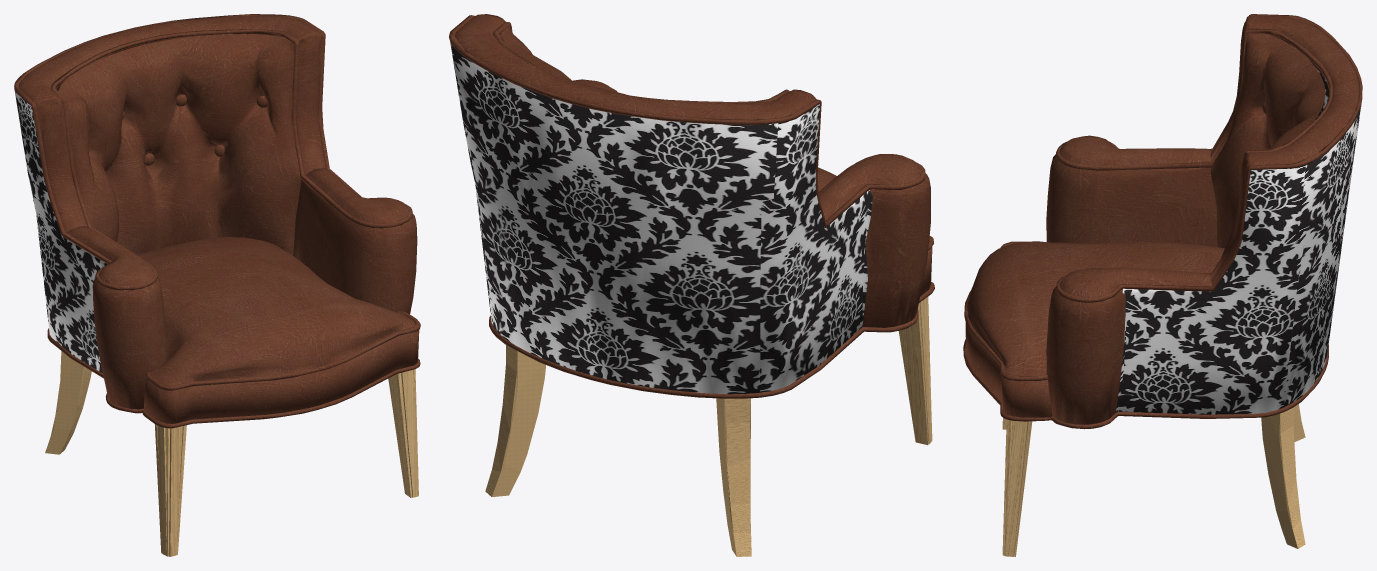
Rendered from armchair.glb.
The picture shows the model from 3 angles, left to right: view 1: azimuth 30°, elevation 25°; view 2: azimuth 150°, elevation 25°; view 3: azimuth 270°, elevation 25°; orthographic projection. The views are drawn at different scales.
Visible parts, largest first — view 1: Armchair HORCHOW Haute House Bright Tiffany Damask Chair N09; view 2: Armchair HORCHOW Haute House Bright Tiffany Damask Chair N09; view 3: Armchair HORCHOW Haute House Bright Tiffany Damask Chair N09.
Part boxes in pixels (bbox=[...]): Armchair HORCHOW Haute House Bright Tiffany Damask Chair N09: bbox=[14, 14, 420, 556]; Armchair HORCHOW Haute House Bright Tiffany Damask Chair N09: bbox=[449, 14, 934, 556]; Armchair HORCHOW Haute House Bright Tiffany Damask Chair N09: bbox=[963, 14, 1362, 556].
Size of the model in its own units: 1.39 by 1.59 by 1.43.
3 materials, 3 textured.
